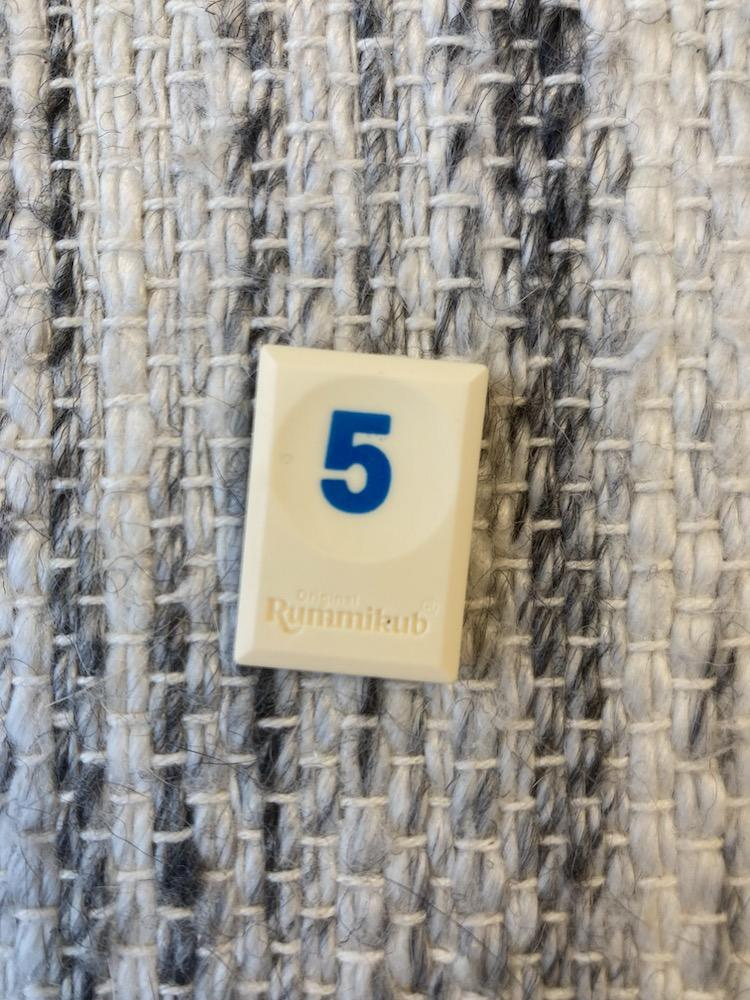blue_5: (234, 346, 486, 682)
